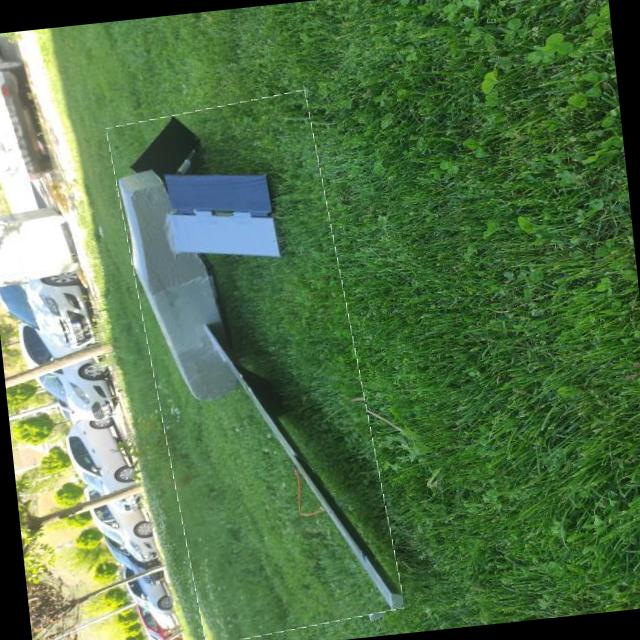UAV: (59, 73, 411, 640)
